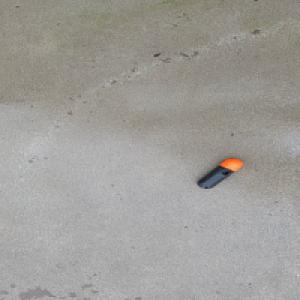PlasticPart: (195, 157, 244, 189)
